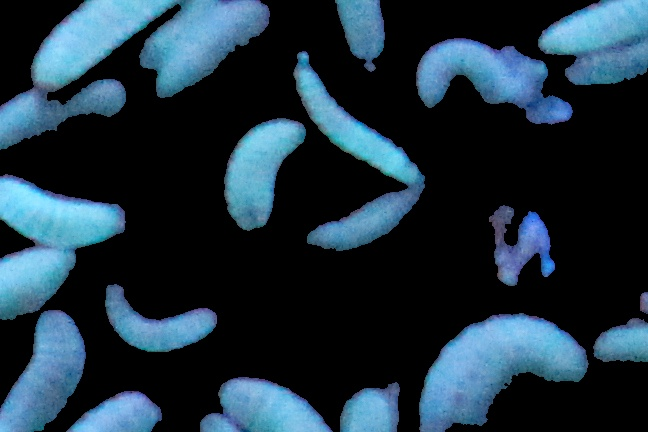larvae: (423, 311, 588, 432), (291, 51, 416, 181), (151, 1, 280, 98), (30, 1, 169, 87), (1, 312, 87, 432), (221, 118, 307, 236), (1, 77, 128, 155), (1, 170, 121, 245), (309, 184, 415, 259), (106, 283, 218, 353), (1, 247, 79, 340), (415, 38, 508, 108), (216, 375, 329, 432), (537, 1, 648, 57), (565, 40, 648, 87), (331, 1, 390, 67), (69, 390, 161, 432), (341, 369, 402, 432), (587, 317, 648, 368)
